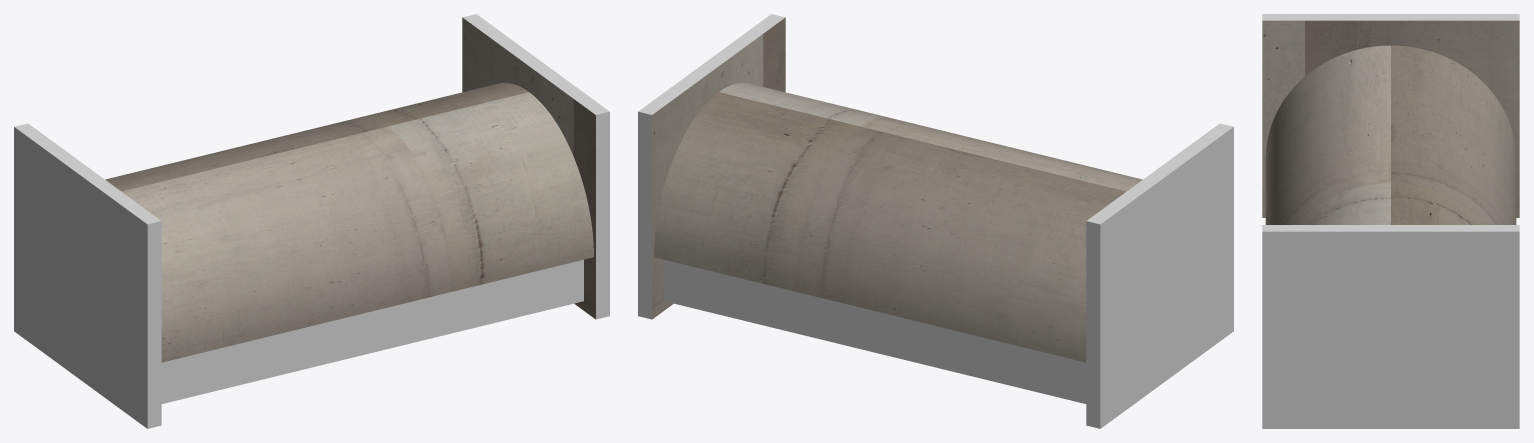
The model's file is MachineCavern.fbx.
3 renders of one model, left to right at view 1: azimuth 30°, elevation 25°; view 2: azimuth 150°, elevation 25°; view 3: azimuth 270°, elevation 25°, orthographic. The views are drawn at different scales.
Parts seen in each view (by area): view 1: polySurface271; view 2: polySurface271; view 3: polySurface271.
Part boxes in pixels (left/top/right/bottom): polySurface271: left=14, top=14, right=609, bottom=428; polySurface271: left=638, top=14, right=1233, bottom=428; polySurface271: left=1262, top=14, right=1519, bottom=428.
Size of the model in its own units: 72.34 by 30.58 by 36.15.
